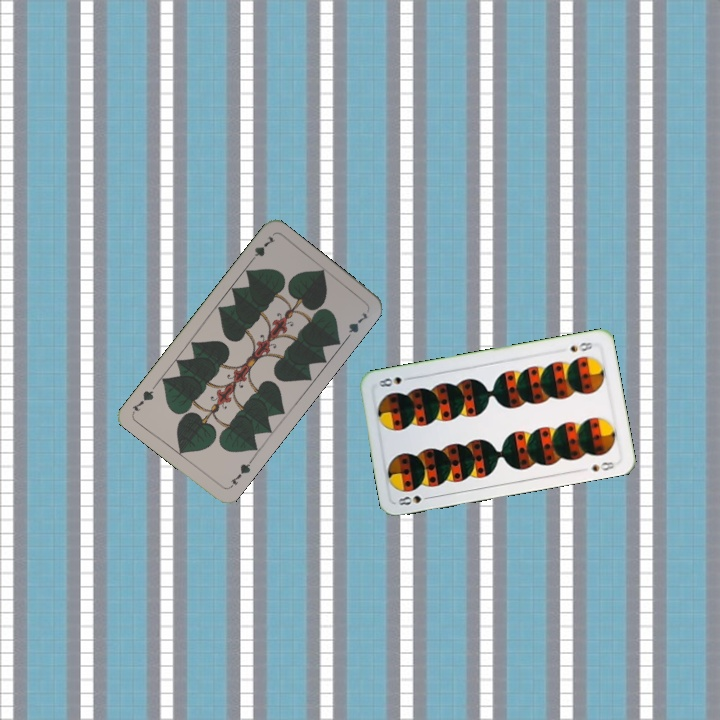G7: (245, 231, 277, 266), (226, 456, 255, 490)
S8: (394, 491, 434, 508), (566, 338, 595, 355)
